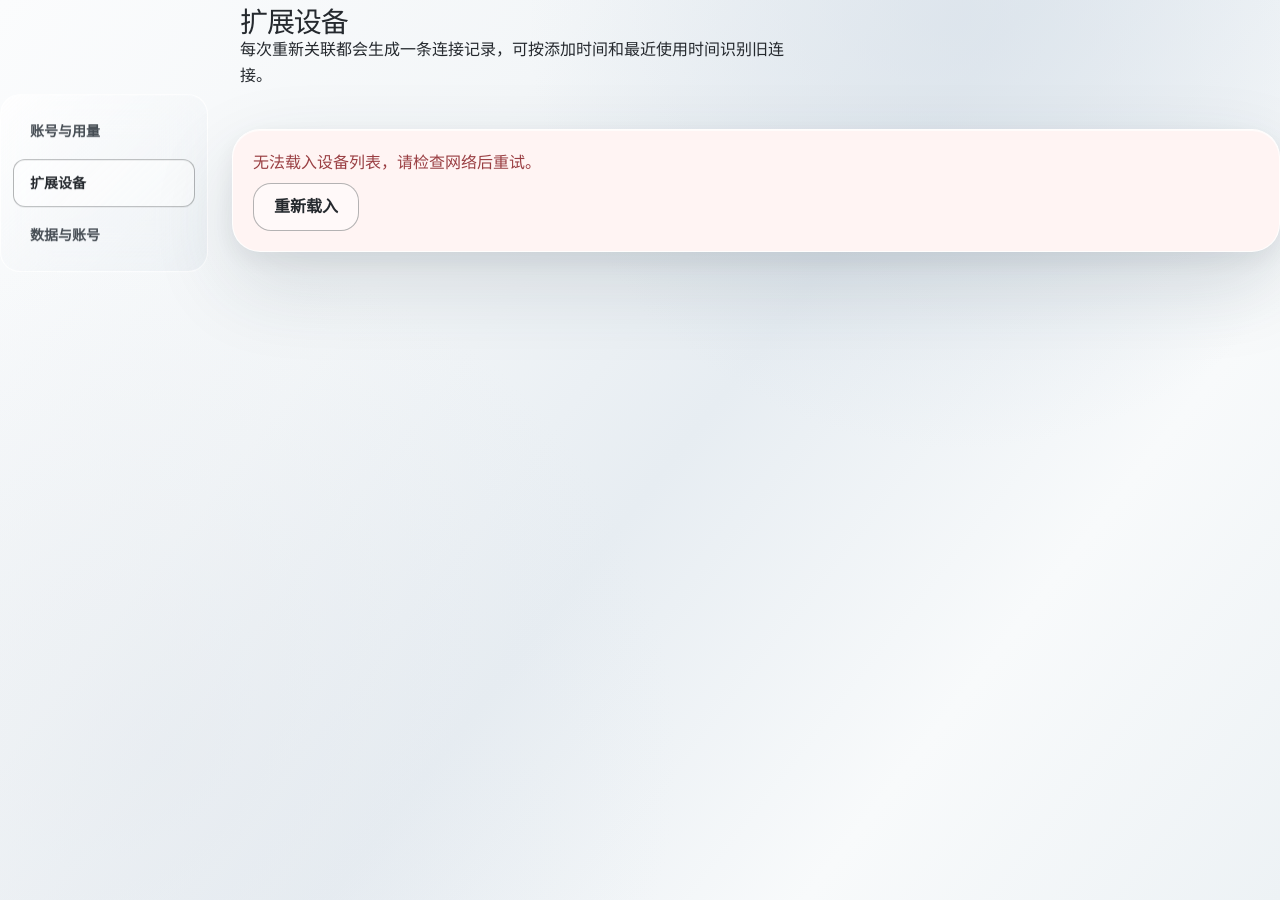
Scenario: Web account device sessions › recovers from a list error and shows server-owned session metadata
This screenshot has width=1280, height=900.
Expected: the message "无法载入设备列表，请检查网络后重试。 重新载入" is shown, [232,129,1279,252]
Click the button "重新载入". click: (306, 207)
box: [253,183,359,231]
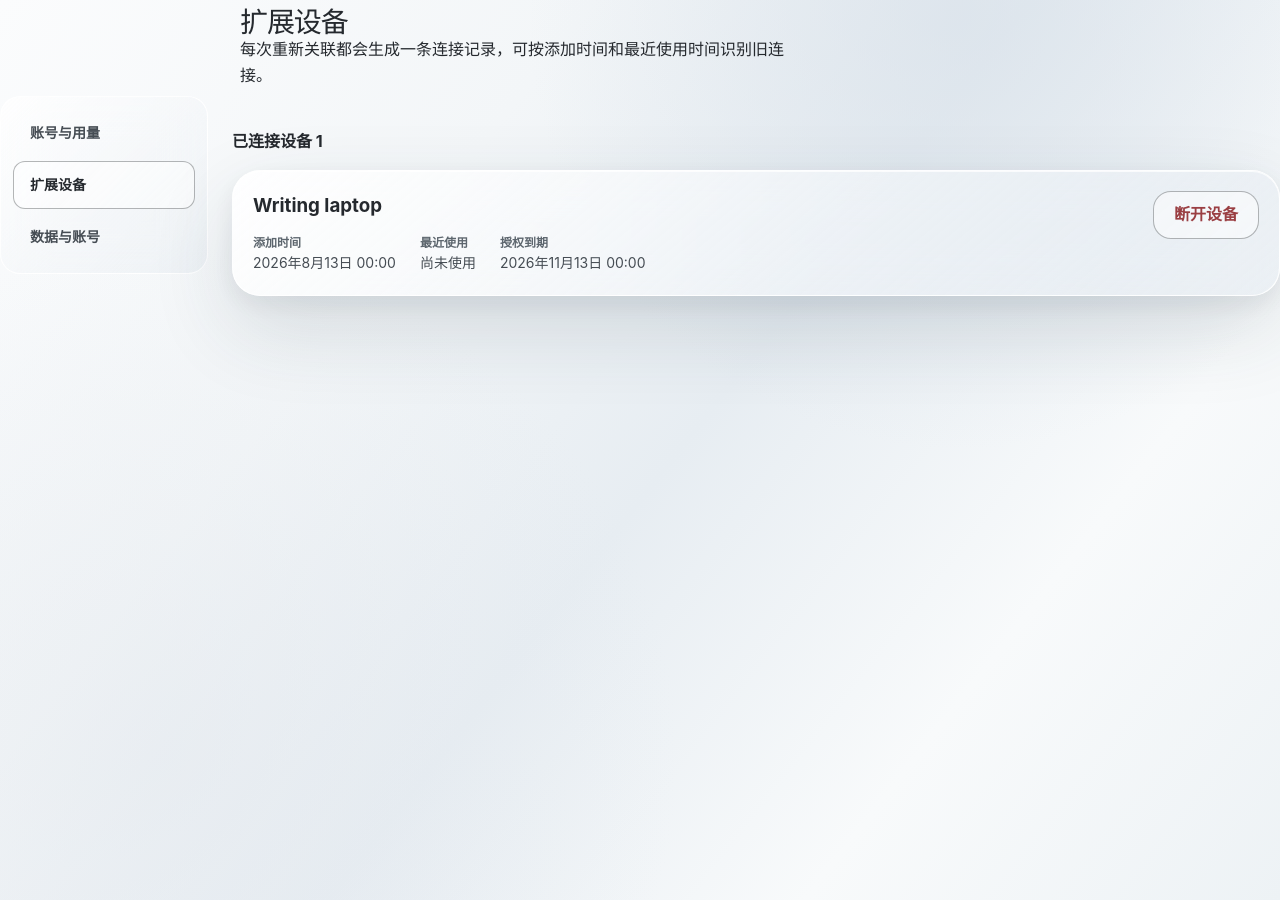
Result: the list shows "Writing laptop" at [253,194,382,217]
Result: the text "尚未使用" is shown at [420,252,476,275]
